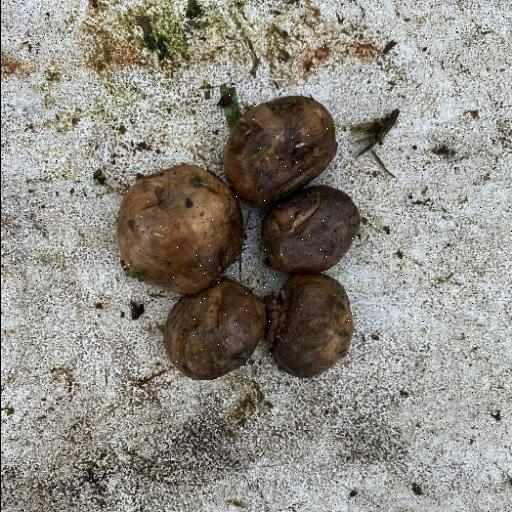Waste: (114, 92, 364, 384), (114, 162, 246, 295), (220, 92, 338, 208), (161, 276, 267, 382), (262, 272, 355, 380), (259, 182, 361, 274)
